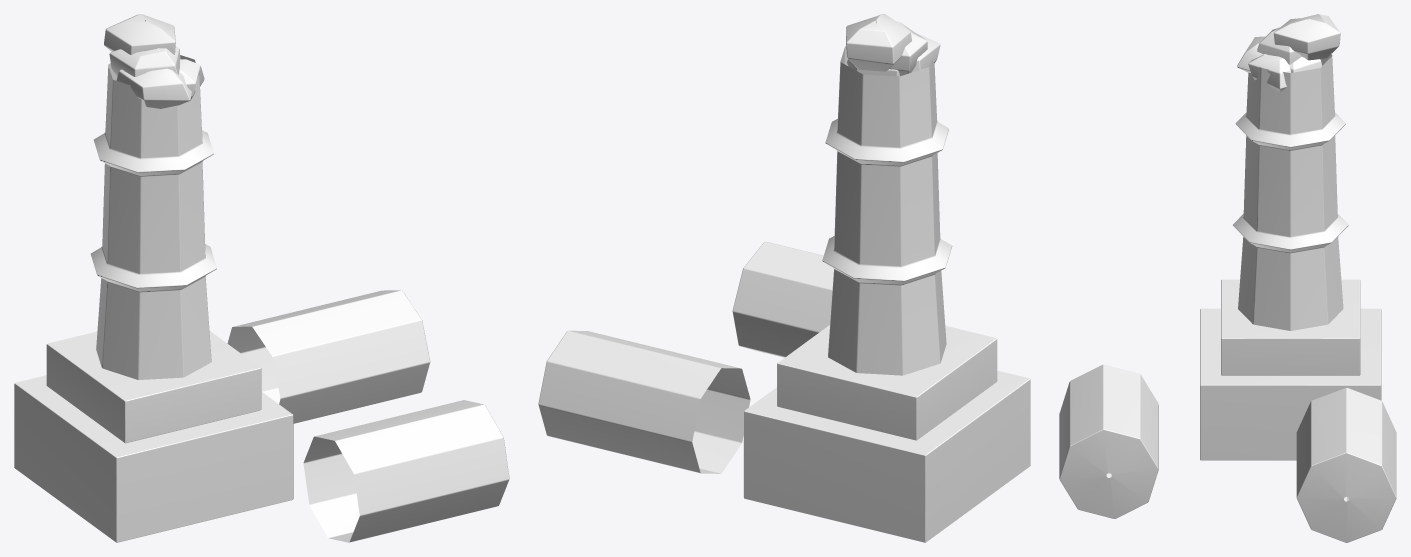
Rendered from pillar_broken.glb.
The picture shows the model from 3 angles, left to right: view 1: azimuth 30°, elevation 25°; view 2: azimuth 150°, elevation 25°; view 3: azimuth 270°, elevation 25°; orthographic projection. The views are drawn at different scales.
Visible parts, largest first — view 1: PillarBroken; view 2: PillarBroken; view 3: PillarBroken.
Part boxes in pixels (x1,y1,x2,y2): PillarBroken: (14,14,509,542); PillarBroken: (538,14,1030,542); PillarBroken: (1059,14,1396,542).
Bounding box in the file's own units: 2.72 × 3.19 × 2.41.
1 material, 1 textured.
